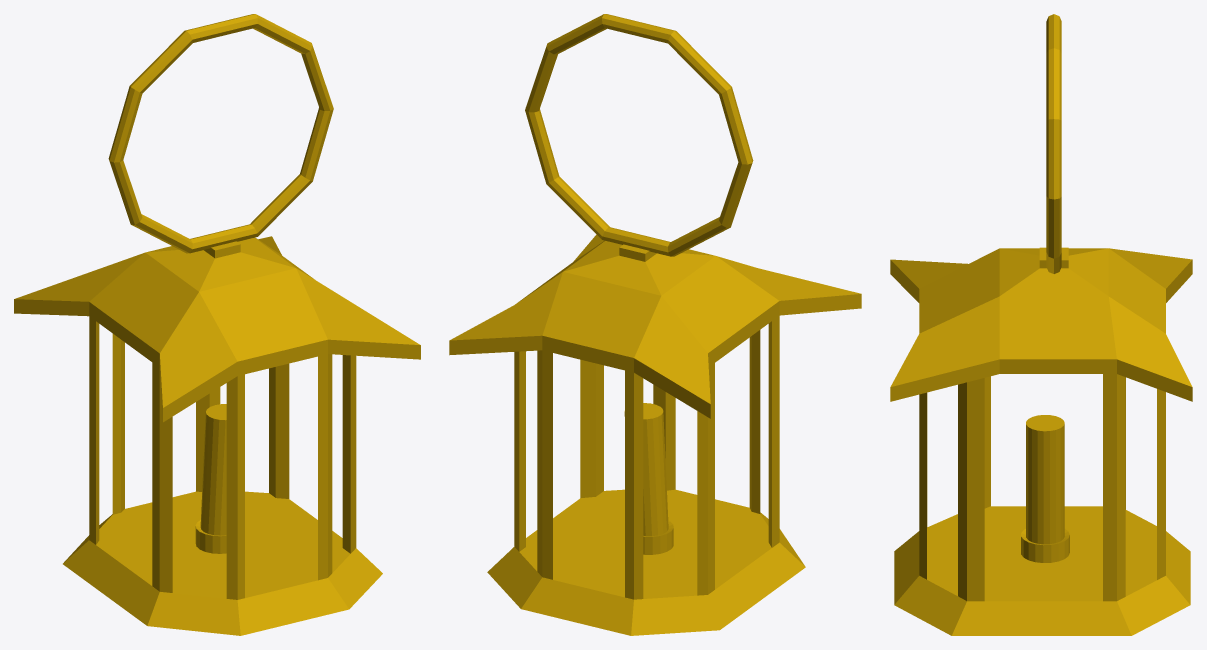
The model's file is lamp1_v2.fbx.
3 views of the same model, side by side, from view 1: azimuth 30°, elevation 25°; view 2: azimuth 150°, elevation 25°; view 3: azimuth 270°, elevation 25° (orthographic).
Visible parts, largest first — view 1: Cube, Cube.001; view 2: Cube, Cube.001; view 3: Cube, Cube.001.
Part boxes in pixels (x1,y1,x2,y2): Cube: (14, 236, 420, 635); Cube.001: (108, 14, 333, 253); Cube: (449, 234, 861, 635); Cube.001: (525, 14, 753, 256); Cube: (890, 247, 1192, 635); Cube.001: (1046, 14, 1061, 273).
Bounding box in the file's own units: 336 × 675 × 336.
